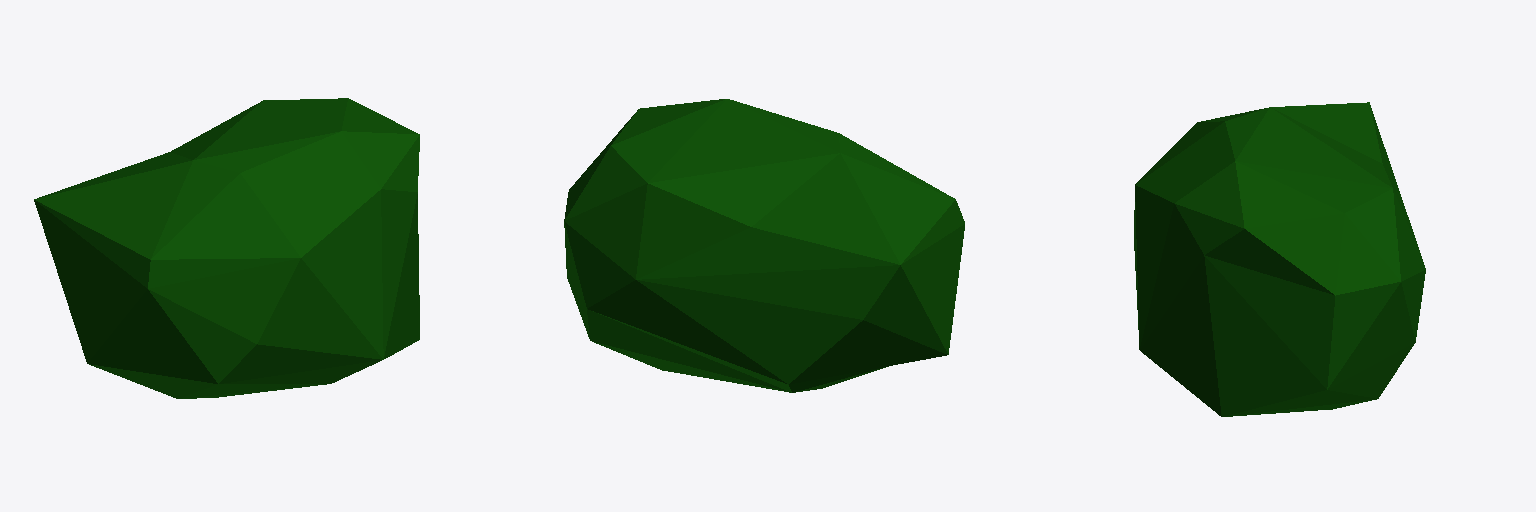
Rendered from bush4.obj.
The picture shows the model from 3 angles: view 1: azimuth 30°, elevation 25°; view 2: azimuth 150°, elevation 25°; view 3: azimuth 270°, elevation 25°; orthographic projection.
Parts seen in each view (by area): view 1: Hedge_Icosphere.020; view 2: Hedge_Icosphere.020; view 3: Hedge_Icosphere.020.
Part boxes in pixels (x1,y1,x2,y2): Hedge_Icosphere.020: (34, 98, 419, 398); Hedge_Icosphere.020: (564, 99, 964, 392); Hedge_Icosphere.020: (1134, 102, 1425, 416).
Size of the model in its own units: 1.98 by 1.34 by 1.41.